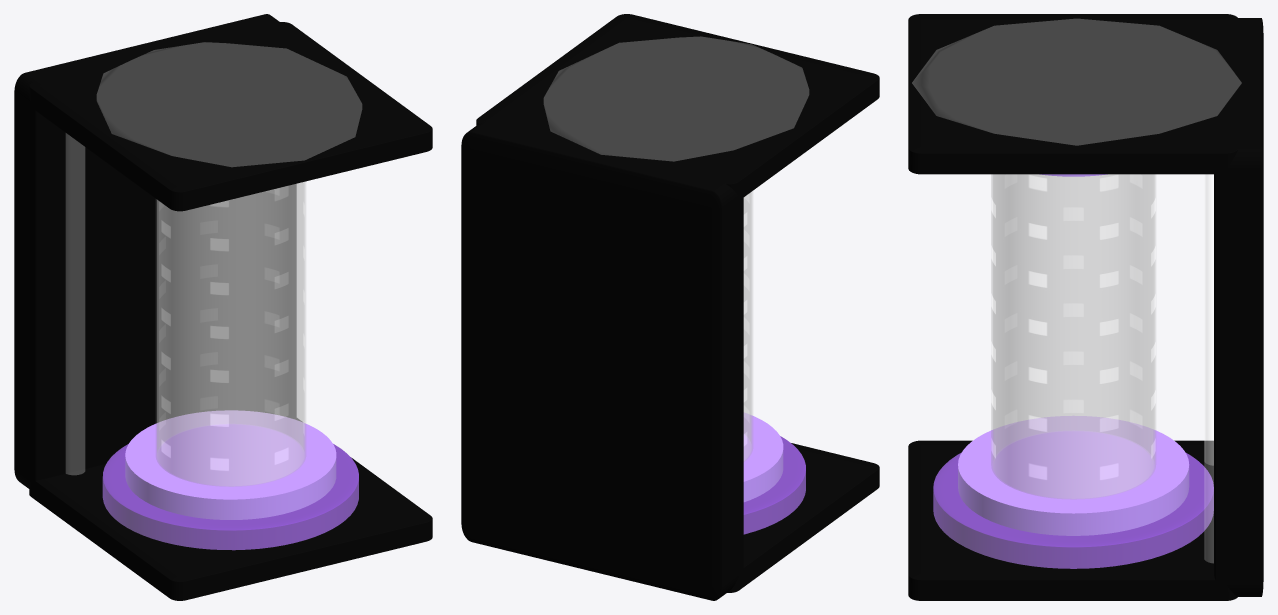
File: Hologram.gltf
The picture shows the model from 3 angles, left to right: view 1: azimuth 30°, elevation 25°; view 2: azimuth 150°, elevation 25°; view 3: azimuth 270°, elevation 25°; orthographic projection. The views are drawn at different scales.
Parts seen in each view (by area): view 1: Box 1, Box 2, Tube, Tube 1, Polyhedron, Cylinder 3, Box, Cylinder, Cylinder 1; view 2: Box 1, Box 2, Polyhedron, Box, Cylinder, Cylinder 3, Tube, Tube 1; view 3: Tube, Box 2, Tube 1, Polyhedron, Box 1, Cylinder 3, Box, Cylinder, Cylinder 2, Cylinder 1.
Part boxes in pixels (bbox=[...]): Box 1: bbox=[14, 14, 296, 488]; Box 2: bbox=[29, 22, 432, 211]; Tube: bbox=[156, 182, 305, 486]; Tube 1: bbox=[157, 182, 303, 485]; Polyhedron: bbox=[97, 42, 361, 166]; Cylinder 3: bbox=[125, 410, 336, 519]; Box: bbox=[29, 417, 432, 600]; Cylinder: bbox=[102, 444, 358, 550]; Cylinder 1: bbox=[66, 133, 84, 474]; Box 1: bbox=[461, 120, 743, 600]; Box 2: bbox=[476, 14, 879, 200]; Polyhedron: bbox=[544, 37, 808, 161]; Box: bbox=[727, 443, 879, 592]; Cylinder: bbox=[743, 436, 805, 534]; Cylinder 3: bbox=[743, 413, 783, 502]; Tube: bbox=[744, 191, 752, 461]; Tube 1: bbox=[744, 193, 750, 459]; Tube: bbox=[991, 174, 1155, 499]; Box 2: bbox=[908, 14, 1237, 174]; Tube 1: bbox=[993, 174, 1153, 498]; Polyhedron: bbox=[912, 19, 1241, 145]; Box 1: bbox=[1214, 18, 1263, 596]; Cylinder 3: bbox=[958, 416, 1189, 535]; Box: bbox=[908, 440, 1237, 600]; Cylinder: bbox=[933, 452, 1213, 568]; Cylinder 2: bbox=[1204, 174, 1213, 562]; Cylinder 1: bbox=[1205, 175, 1213, 464].
Size of the model in its own units: 0.2 by 0.314 by 0.215.
